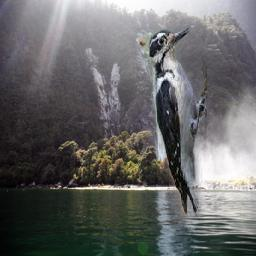Woodpecker: (139, 27, 207, 223)
